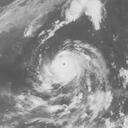cyclone: (35, 50, 94, 90)
